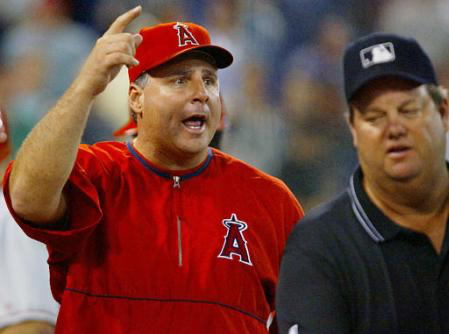Face: (347, 74, 445, 197), (135, 52, 226, 161)
